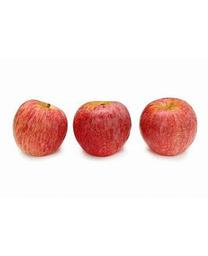apple: (73, 101, 132, 158), (139, 99, 199, 155), (13, 99, 68, 157)
